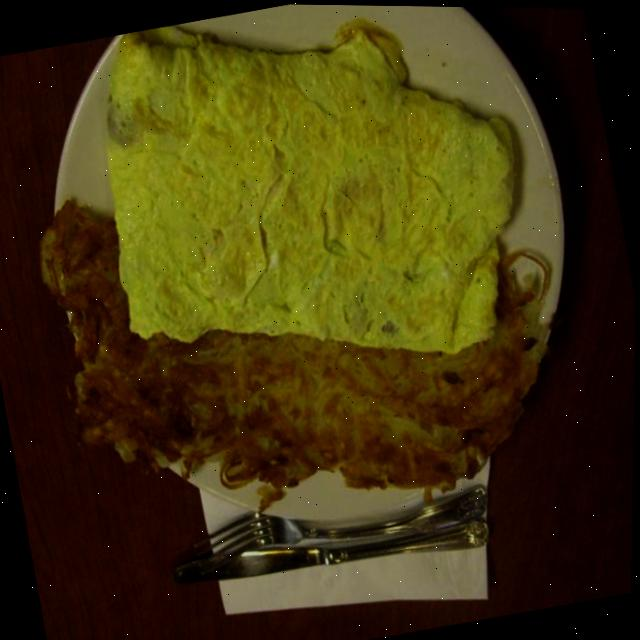鸡蛋料理: (43, 1, 589, 440)
